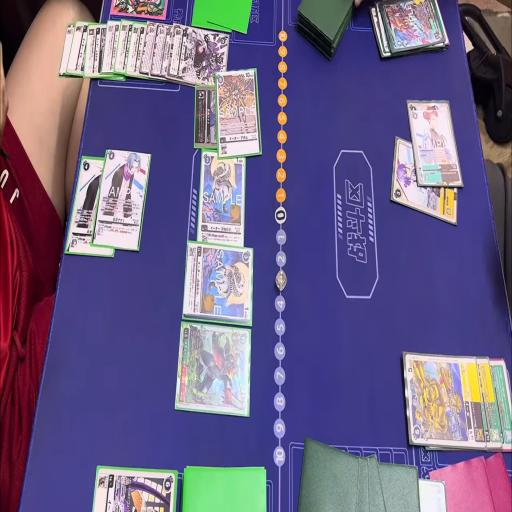card: (400, 349, 486, 449), (177, 324, 252, 414), (92, 148, 152, 254), (184, 239, 254, 328), (394, 136, 458, 226), (66, 155, 114, 258), (201, 149, 246, 252), (214, 70, 262, 161), (410, 100, 458, 188), (171, 22, 230, 91), (92, 465, 177, 512), (382, 0, 442, 58), (476, 347, 504, 459), (489, 354, 512, 453), (64, 15, 96, 77), (84, 18, 110, 80), (194, 82, 218, 149), (124, 19, 149, 80), (58, 17, 82, 76), (112, 18, 134, 80), (141, 18, 162, 80), (148, 25, 168, 82), (100, 20, 119, 78), (160, 22, 176, 82)
